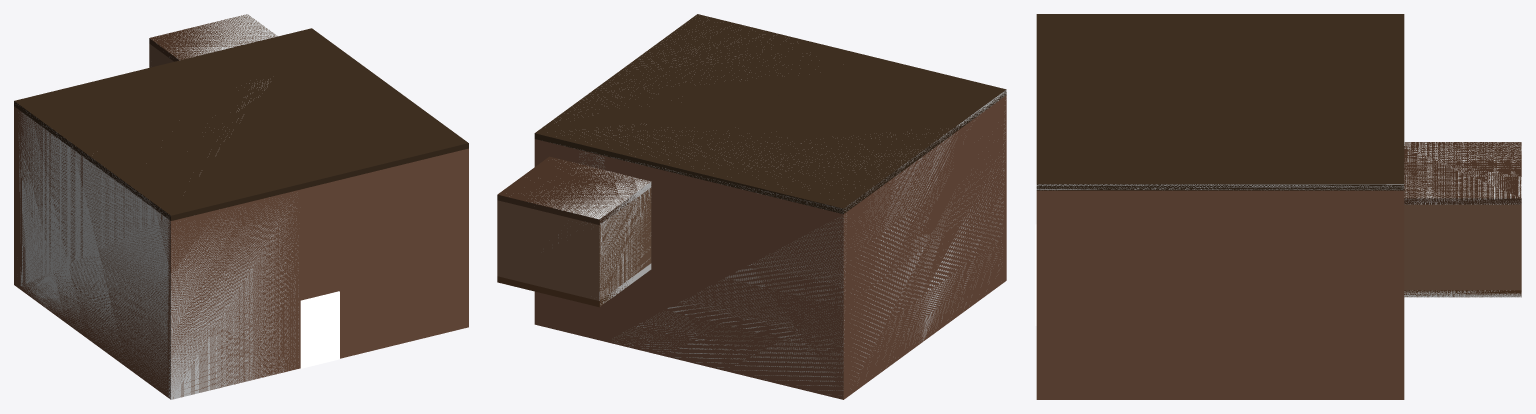
File: botequim.glb
The picture shows the model from 3 angles, left to right: view 1: azimuth 30°, elevation 25°; view 2: azimuth 150°, elevation 25°; view 3: azimuth 270°, elevation 25°; orthographic projection. The views are drawn at different scales.
Visible parts, largest first — view 1: botequim_Malla, COL_4, COL_6, COL_37; view 2: botequim_Malla, COL_4, COL_0, COL_37, COL_35, COL_10; view 3: botequim_Malla, COL_37, COL_10, COL_33.
Part boxes in pixels (box(x1,y1,x2,y2)): botequim_Malla: box(14, 14, 468, 399); COL_4: box(18, 112, 167, 390); COL_6: box(167, 199, 298, 399); COL_37: box(153, 14, 277, 60); botequim_Malla: box(497, 14, 1006, 399); COL_4: box(850, 132, 1002, 376); COL_0: box(614, 214, 846, 395); COL_37: box(532, 162, 651, 224); COL_35: box(602, 189, 650, 297); COL_10: box(556, 53, 1006, 213); botequim_Malla: box(1035, 14, 1521, 399); COL_37: box(1404, 142, 1521, 204); COL_10: box(1036, 184, 1404, 190); COL_33: box(1404, 290, 1521, 297).
Bounding box in the file's own units: 11.5 × 6.89 × 13.89.
